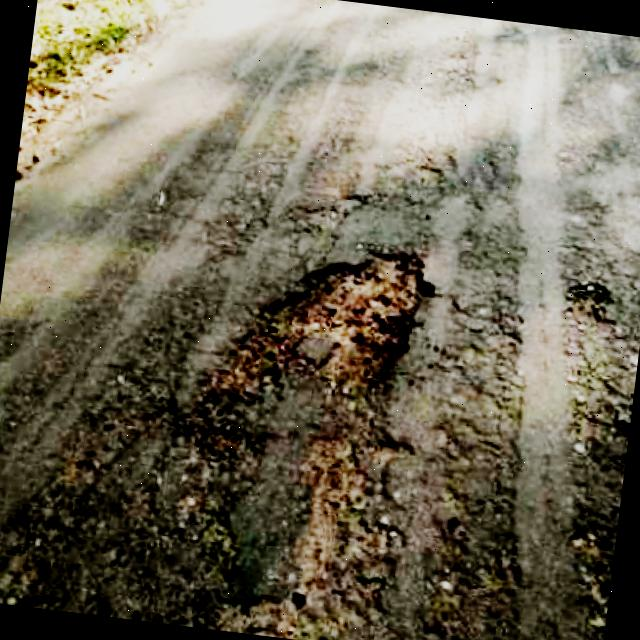pothole: (203, 222, 440, 432), (212, 426, 423, 640), (557, 371, 635, 640), (560, 274, 622, 356)
